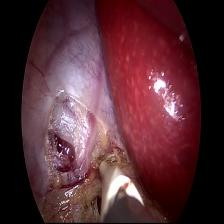Hook: (90, 148, 144, 219)
